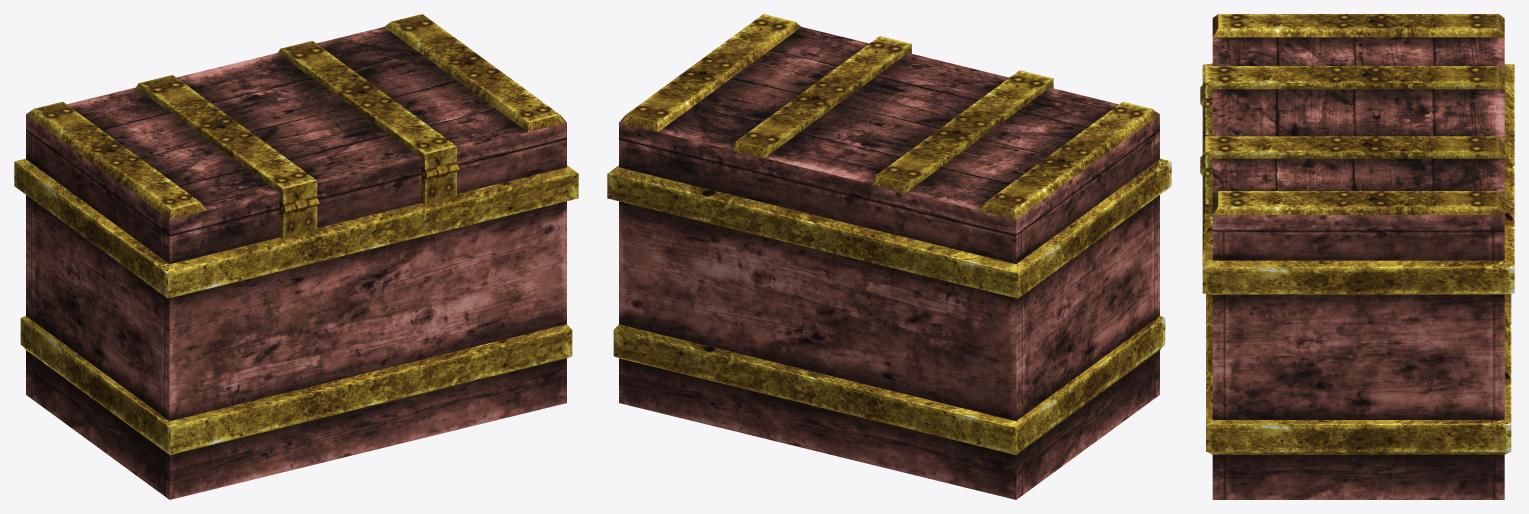
Rendered from storage_box_wood03.dae.
3 renders of one model, left to right at view 1: azimuth 30°, elevation 25°; view 2: azimuth 150°, elevation 25°; view 3: azimuth 270°, elevation 25°, orthographic.
Parts seen in each view (by area): view 1: pCube1; view 2: pCube1; view 3: pCube1.
Part boxes in pixels (<box>): pCube1: <box>14,14,578,499</box>; pCube1: <box>607,14,1171,499</box>; pCube1: <box>1200,14,1514,499</box>.
Bounding box in the file's own units: 1.93 × 1.29 × 1.26.
